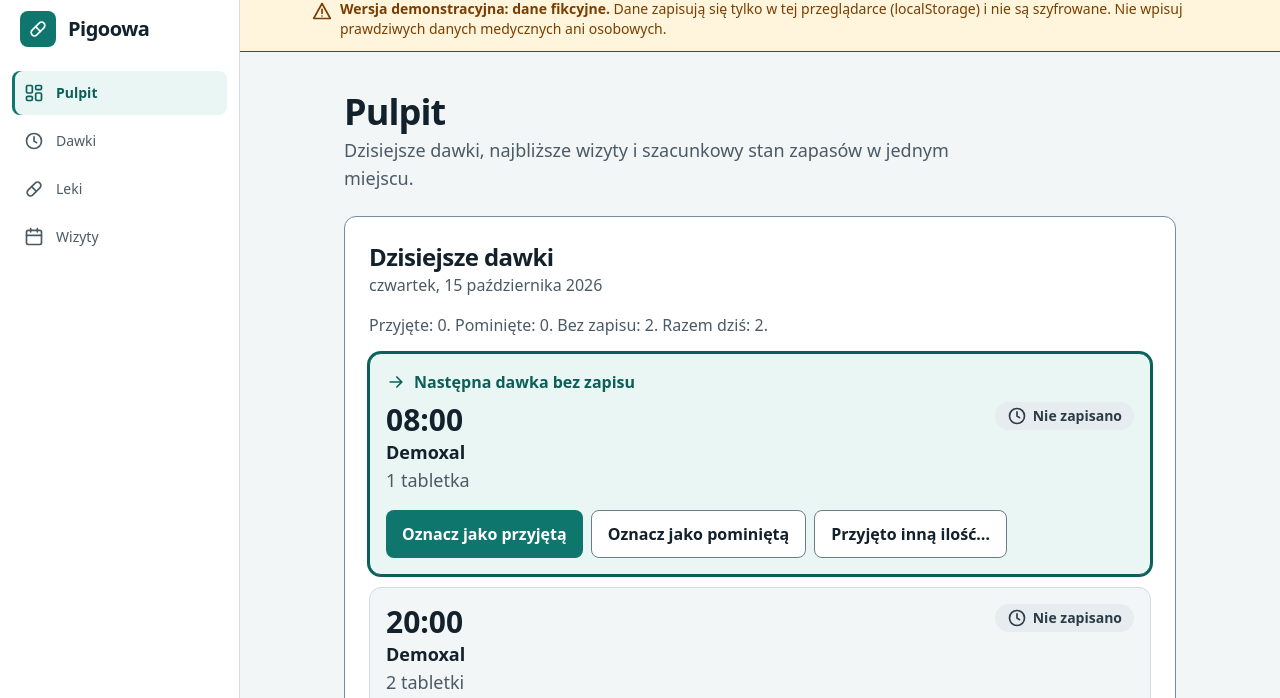
Test: recording a dose with the amount actually taken › a LARGER amount is saved next to the plan, which stays; the row shows both and the note
Click the button with aria-label "Przyjęto inną ilość: Demoxal, 08:00" at (911, 534), box [814, 510, 1007, 558]
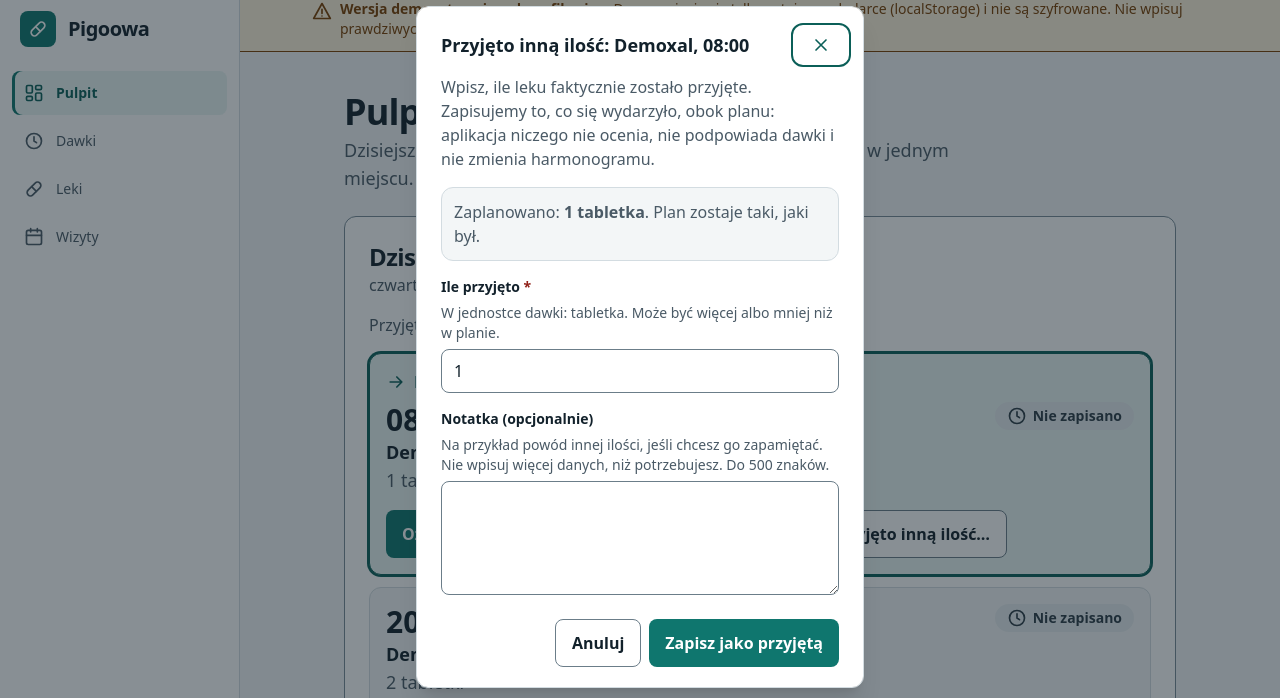
Result: the text "Zaplanowano: 1 tabletka. Plan zostaje taki, jaki był." is shown at [441, 187, 839, 261]
Result: the field labelled "Ile przyjęto *" holds "1"
Replace the text in the field labelled "Ile przyjęto *" with "3" at (640, 371), box [441, 349, 839, 393]
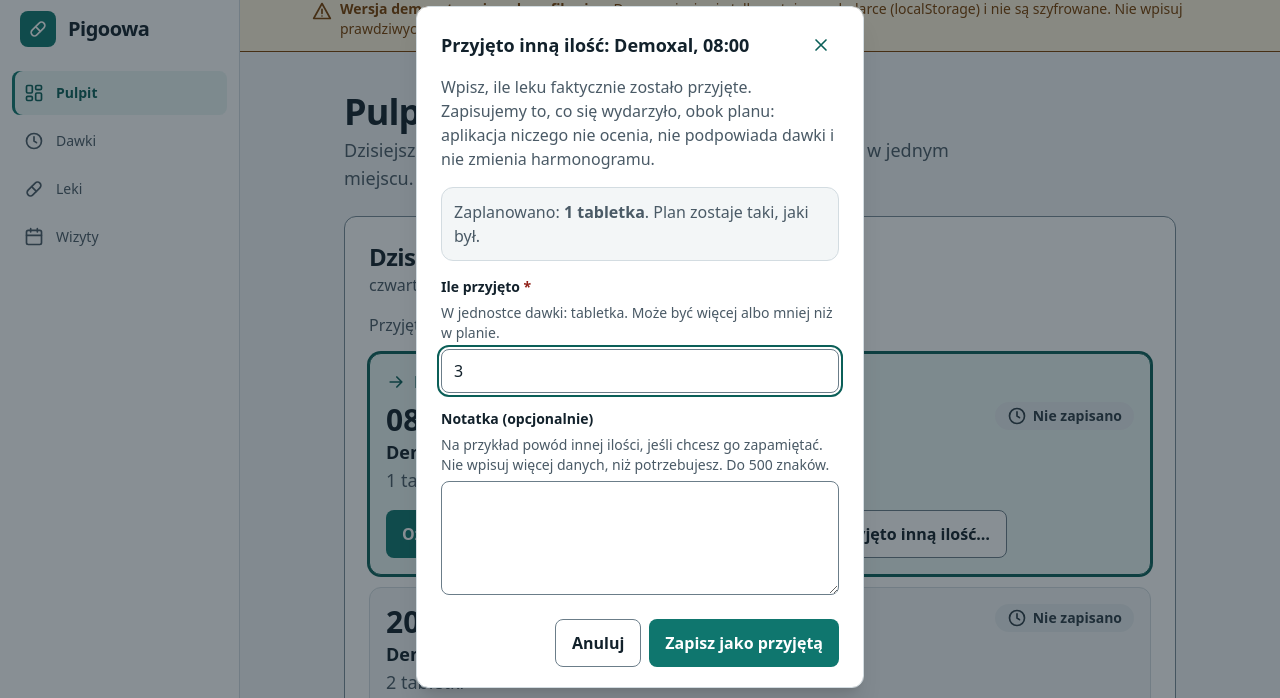
Type "Zgodnie z zaleceniem lekarza" into the text box labelled "Notatka (opcjonalnie)" at (640, 538), box [441, 481, 839, 595]
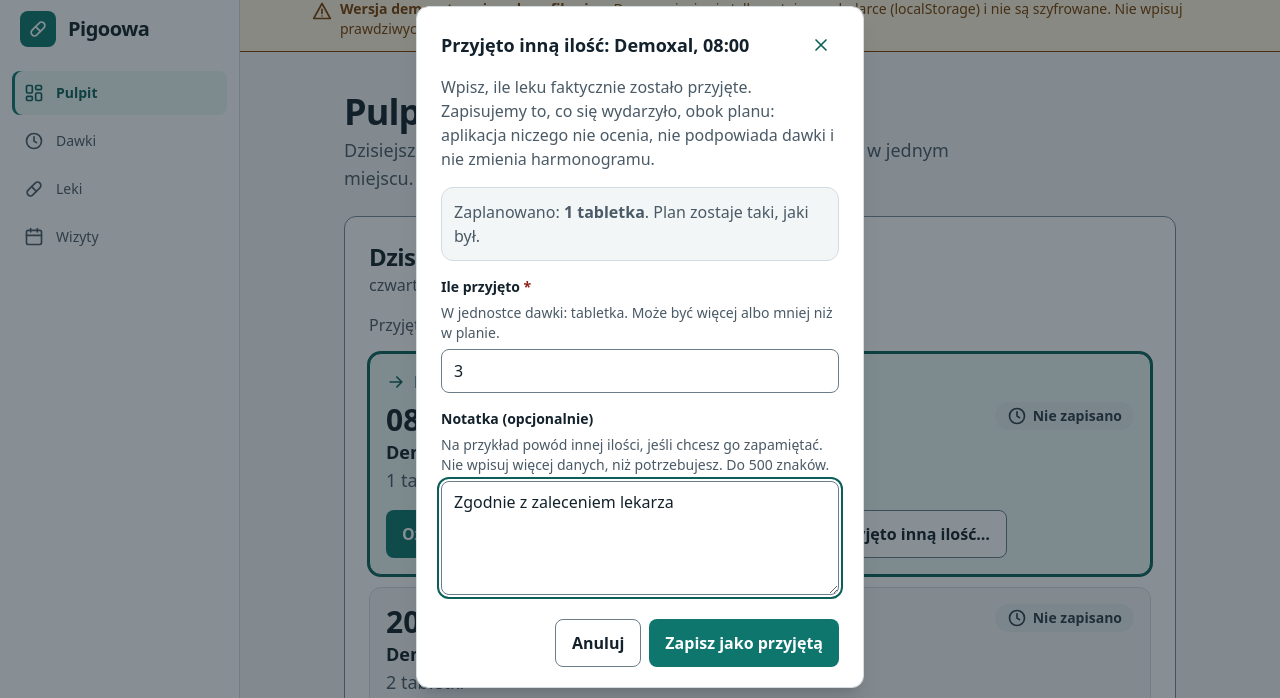
Click the button "Zapisz jako przyjętą" at (744, 643), box [649, 619, 839, 667]
(page scrolled)
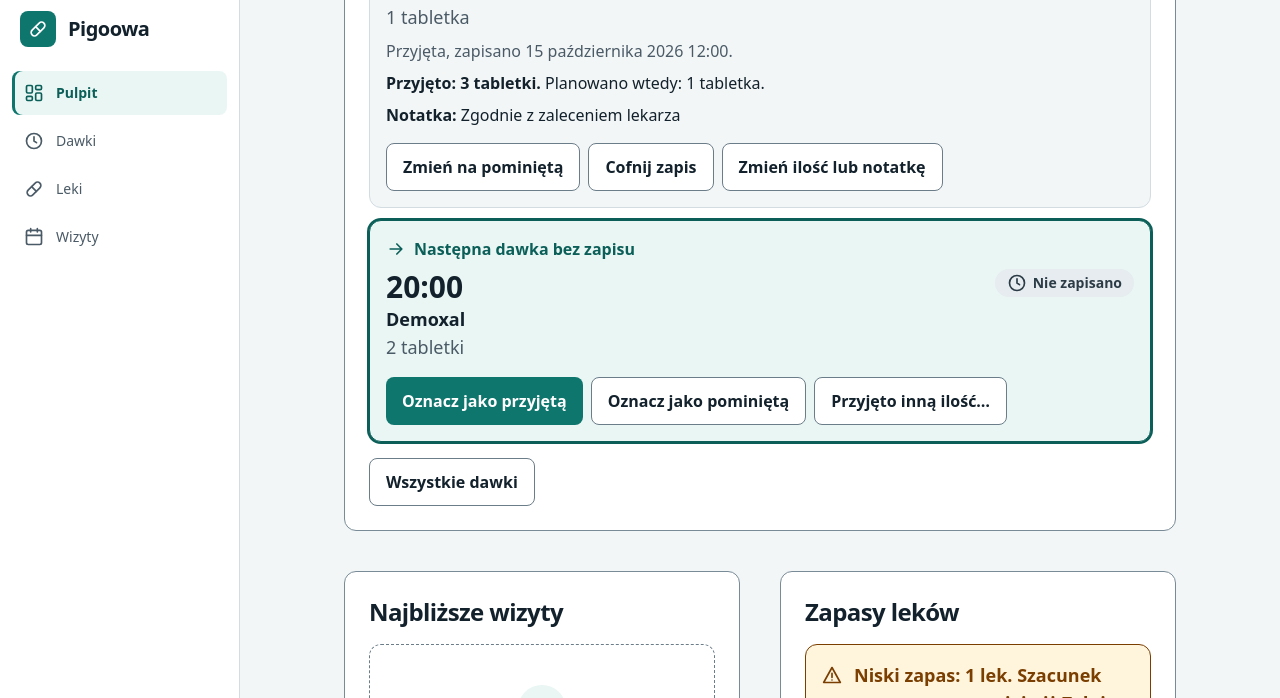
Result: the text "Przyjęto: 3 tabletki." is shown at [386, 72, 541, 94]
Result: the text "Przyjęto: 3 tabletki. Planowano wtedy: 1 tabletka." is shown at [386, 72, 765, 94]
Result: the text "Zgodnie z zaleceniem lekarza" is shown at [461, 104, 680, 126]
